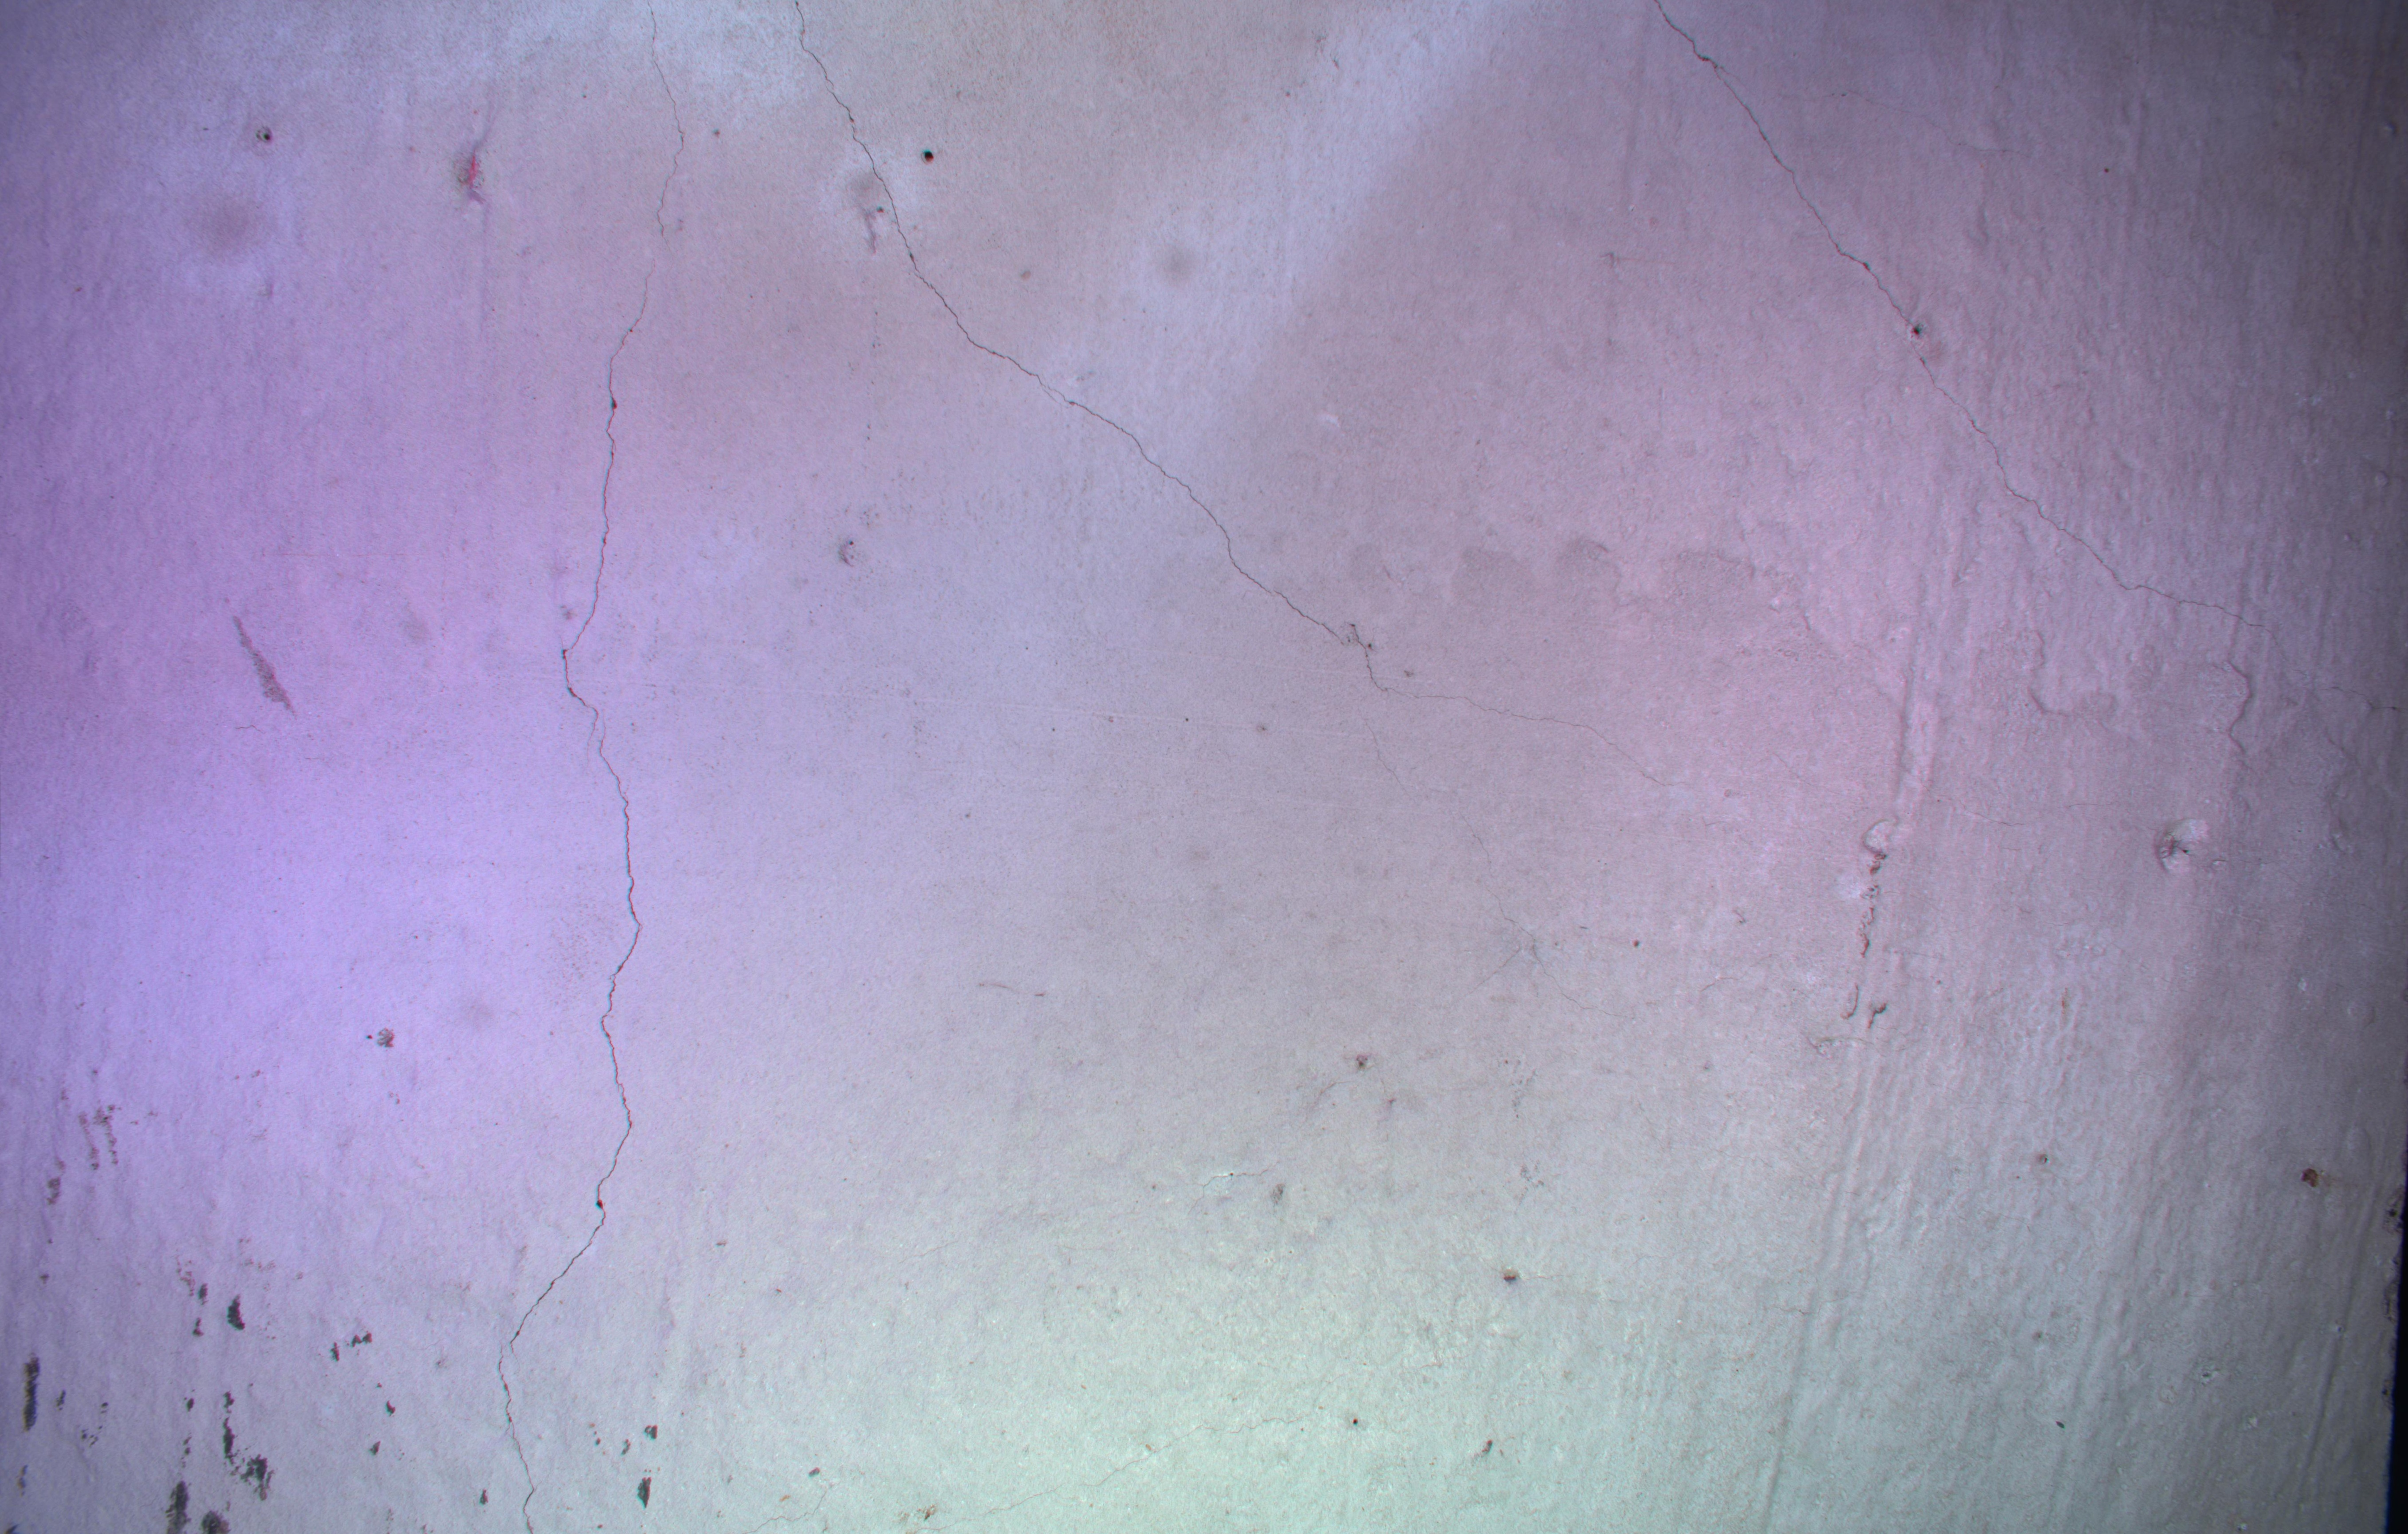Crack: (769, 0, 1755, 813), (1622, 0, 2408, 742), (465, 0, 684, 1534)
